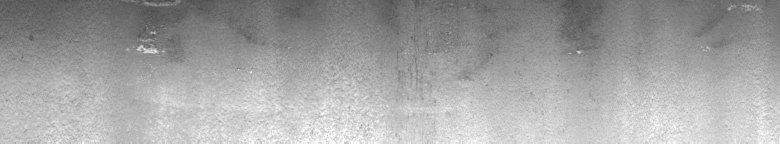hc: (126, 4, 177, 59)
